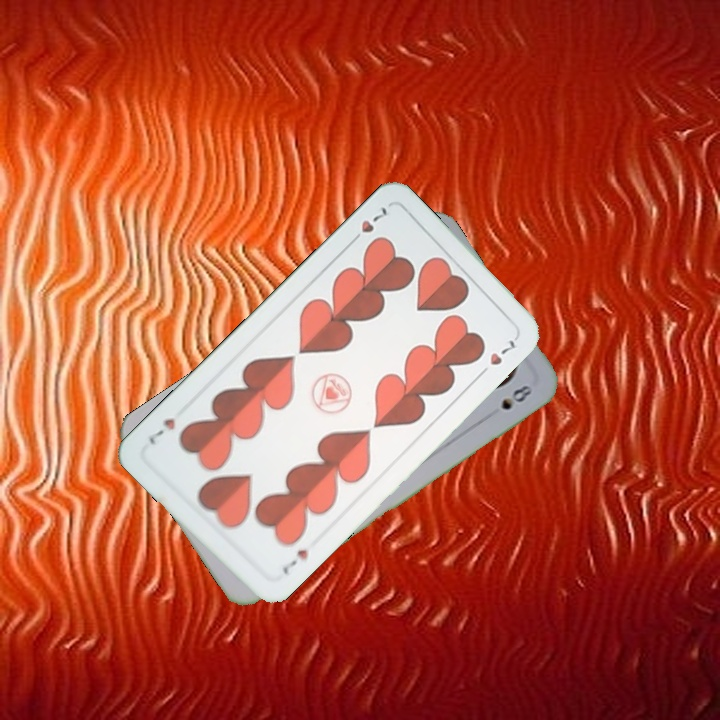H7: (345, 202, 390, 248), (277, 545, 311, 577)
